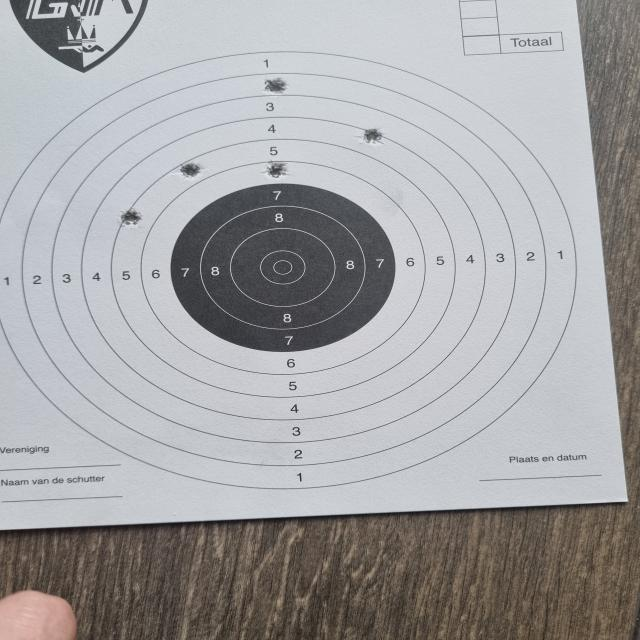2: (265, 79, 288, 94)
4: (355, 127, 385, 145)
5: (120, 211, 142, 225), (180, 163, 200, 178)
6: (261, 161, 291, 178)
Target: (0, 51, 579, 491)
black_contour: (168, 183, 396, 352)
